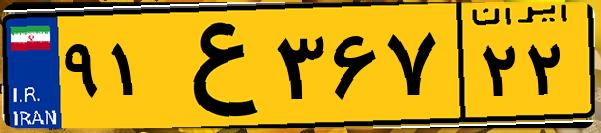1: (110, 28, 158, 98)
2: (475, 38, 525, 113), (525, 38, 570, 115)
3: (270, 28, 330, 110)
6: (330, 28, 385, 110)
7: (385, 28, 445, 110)
9: (57, 26, 110, 100)
ع: (158, 12, 270, 120)
